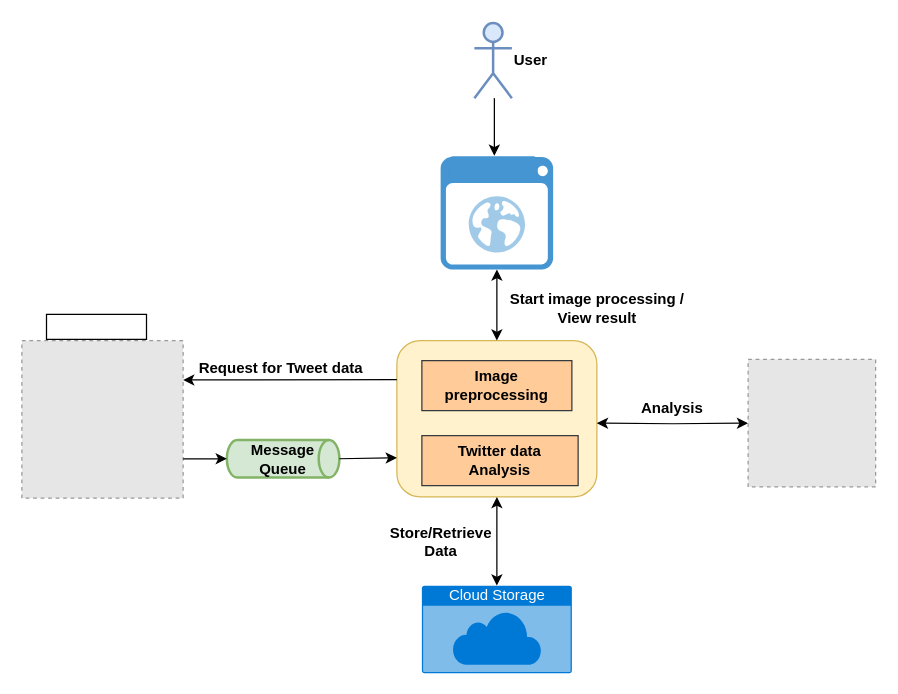
This 898x694 diagram has some shape labels left out. Grey dashed boxes stand in for pictures. The box of each missing label's shape, as (x1, y1, x2, y2) in pixels:
Twitter API: (45, 313, 146, 339)
Web App: (448, 156, 537, 182)
